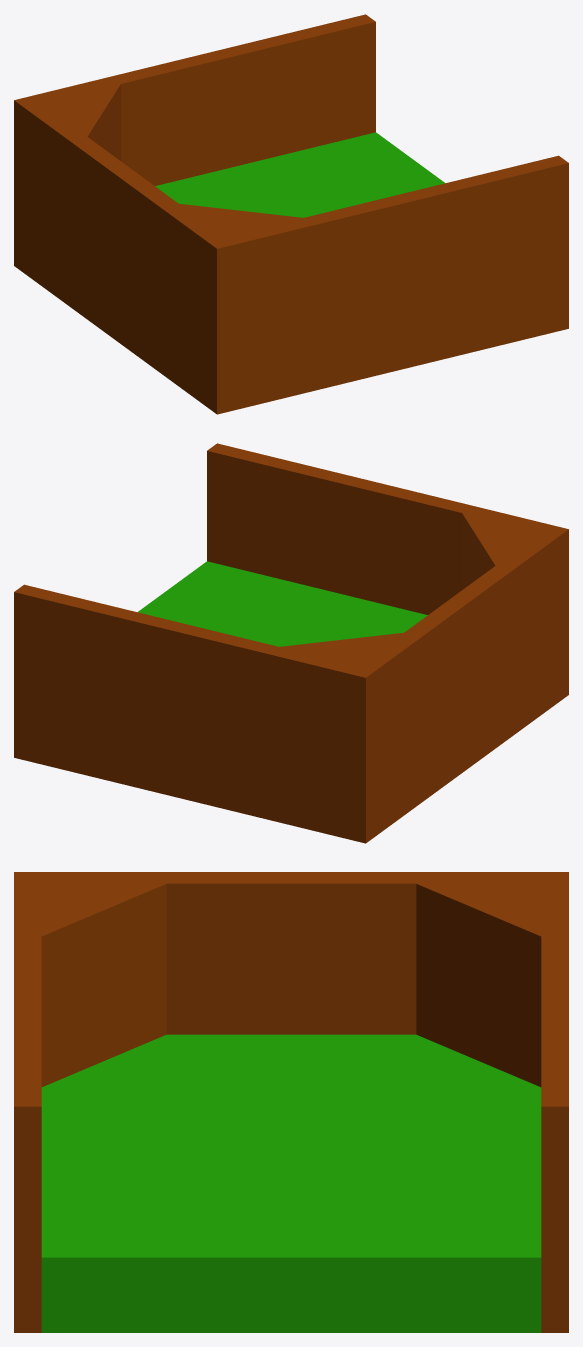
Rendered from start_narrow.fbx.
3 renders of one model, top to bottom at view 1: azimuth 30°, elevation 25°; view 2: azimuth 150°, elevation 25°; view 3: azimuth 270°, elevation 25°, orthographic. The views are drawn at different scales.
Parts seen in each view (by area): view 1: Plane; view 2: Plane; view 3: Plane.
Boxes of the visible parts, bbox=[...] form: Plane: bbox=[14, 14, 568, 414]; Plane: bbox=[14, 443, 568, 843]; Plane: bbox=[14, 872, 568, 1332].
Size of the model in its own units: 200 by 90 by 200.
